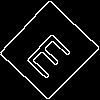E: (24, 25, 80, 81)
